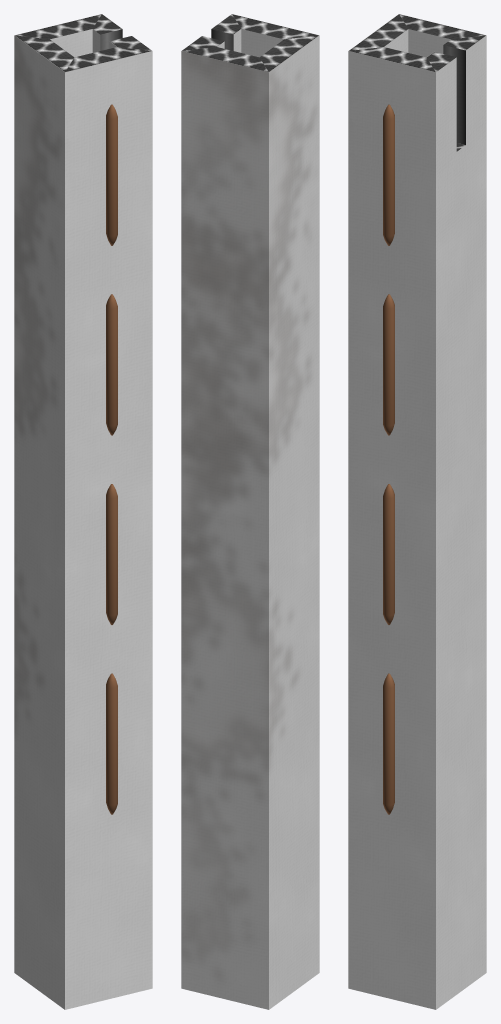
File: Pfahl.fbx
3 renders of one model, left to right at view 1: azimuth 30°, elevation 25°; view 2: azimuth 150°, elevation 25°; view 3: azimuth 330°, elevation 25°, orthographic.
Visible parts, largest first — view 1: Pfahl, PutIn_Stock; view 2: Pfahl; view 3: Pfahl, PutIn_Stock.
Part boxes in pixels (x1,y1,x2,y2): Pfahl: (14, 14, 152, 1009); PutIn_Stock: (106, 104, 117, 814); Pfahl: (181, 14, 319, 1009); Pfahl: (348, 14, 486, 1009); PutIn_Stock: (383, 104, 394, 814).
Size of the model in its own units: 39.15 by 44.05 by 401.
